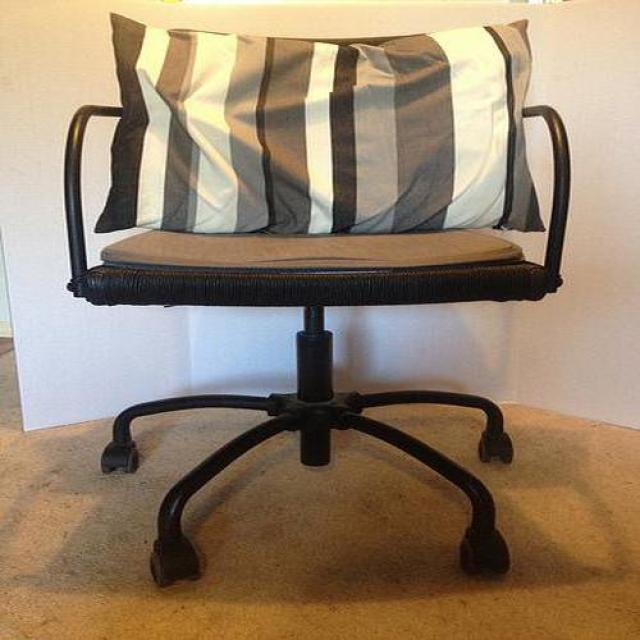swivelchair: (63, 105, 570, 589)
